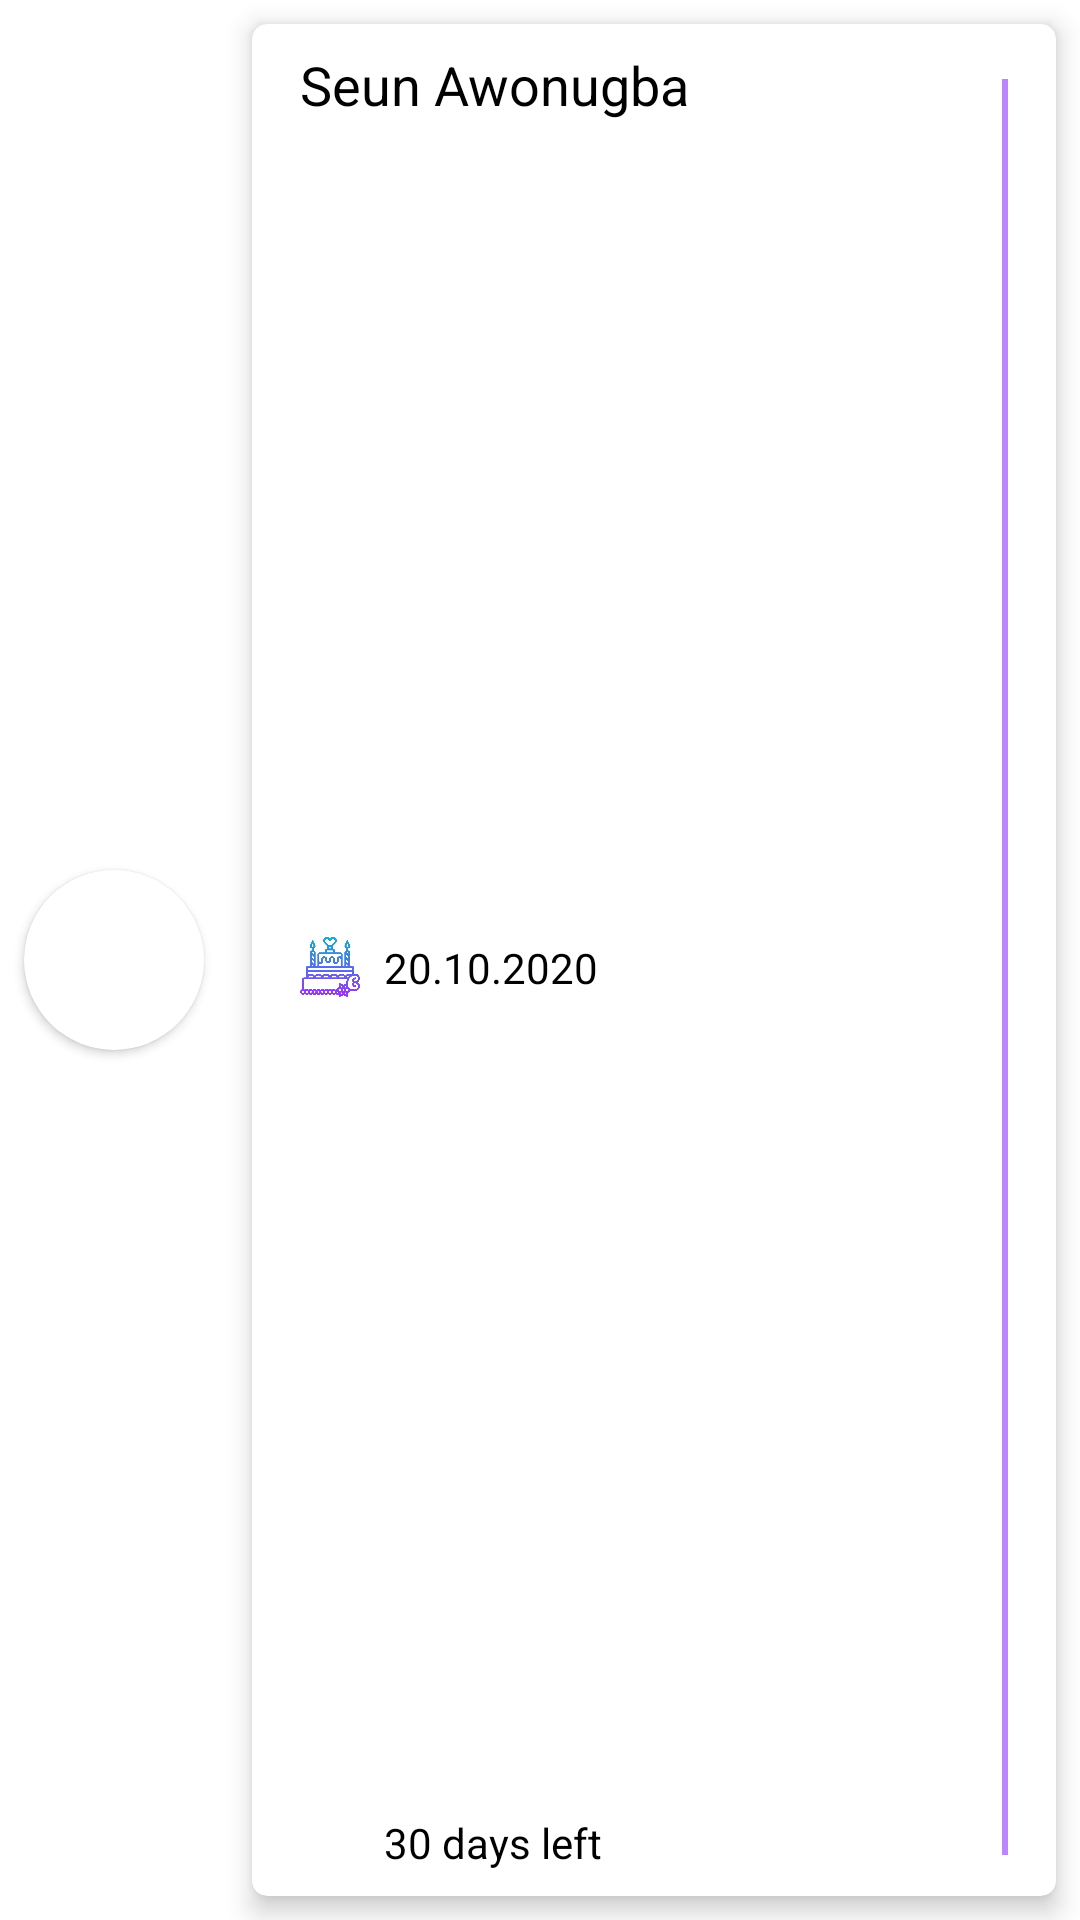

Locate icon controls on the screen. Image size 1080w x 1920h, boxes as (x1, y1, x2, y2).
wedding cake: (300, 937, 360, 997)
